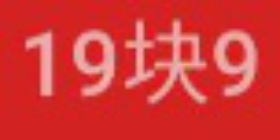TextView: (1, 1, 279, 139)
